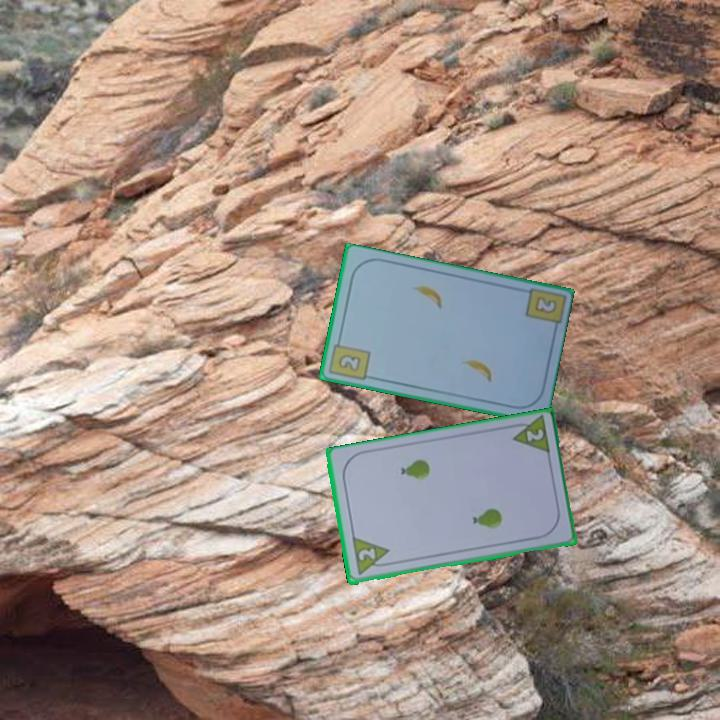2b: (326, 333, 373, 384), (531, 293, 560, 317)
2p: (506, 414, 553, 458), (348, 535, 394, 579)
